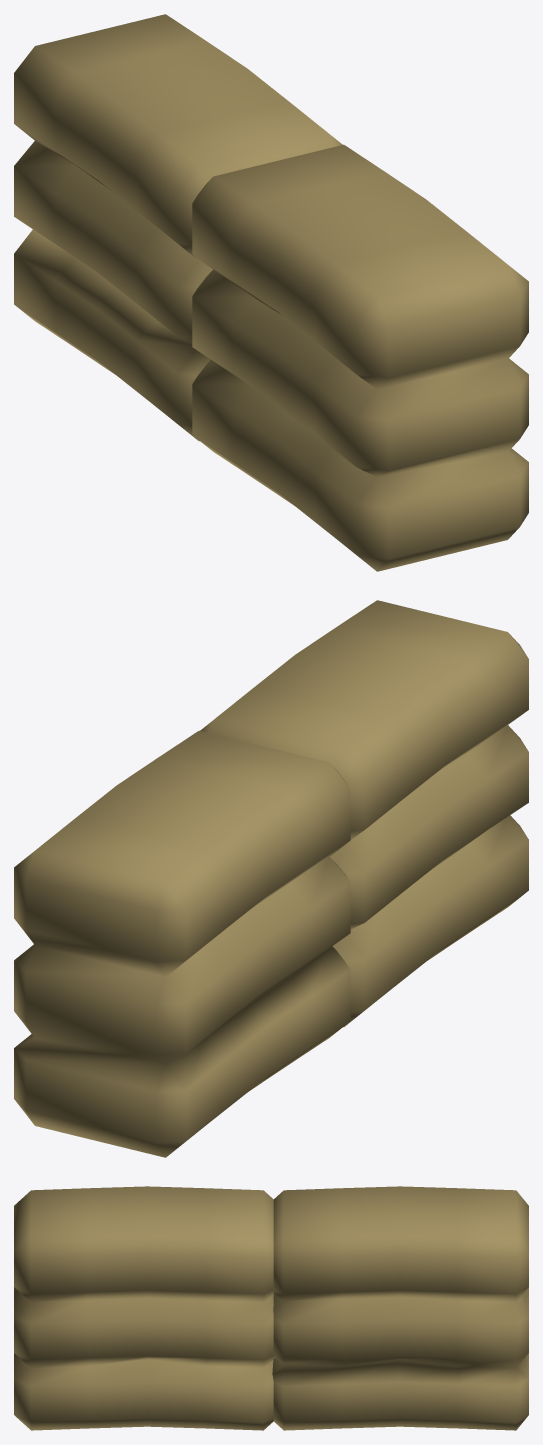
Rendered from DesertSandbags.obj.
3 renders of one model, top to bottom at view 1: azimuth 30°, elevation 25°; view 2: azimuth 150°, elevation 25°; view 3: azimuth 270°, elevation 25°, orthographic. The views are drawn at different scales.
Parts seen in each view (by area): view 1: DesertSandbags_Cube.005; view 2: DesertSandbags_Cube.005; view 3: DesertSandbags_Cube.005.
Boxes of the visible parts, left/top/right/bottom form: DesertSandbags_Cube.005: left=14, top=14, right=528, bottom=571; DesertSandbags_Cube.005: left=14, top=600, right=528, bottom=1157; DesertSandbags_Cube.005: left=14, top=1186, right=528, bottom=1430.
Bounding box in the file's own units: 0.7004 × 1.09 × 2.55.
